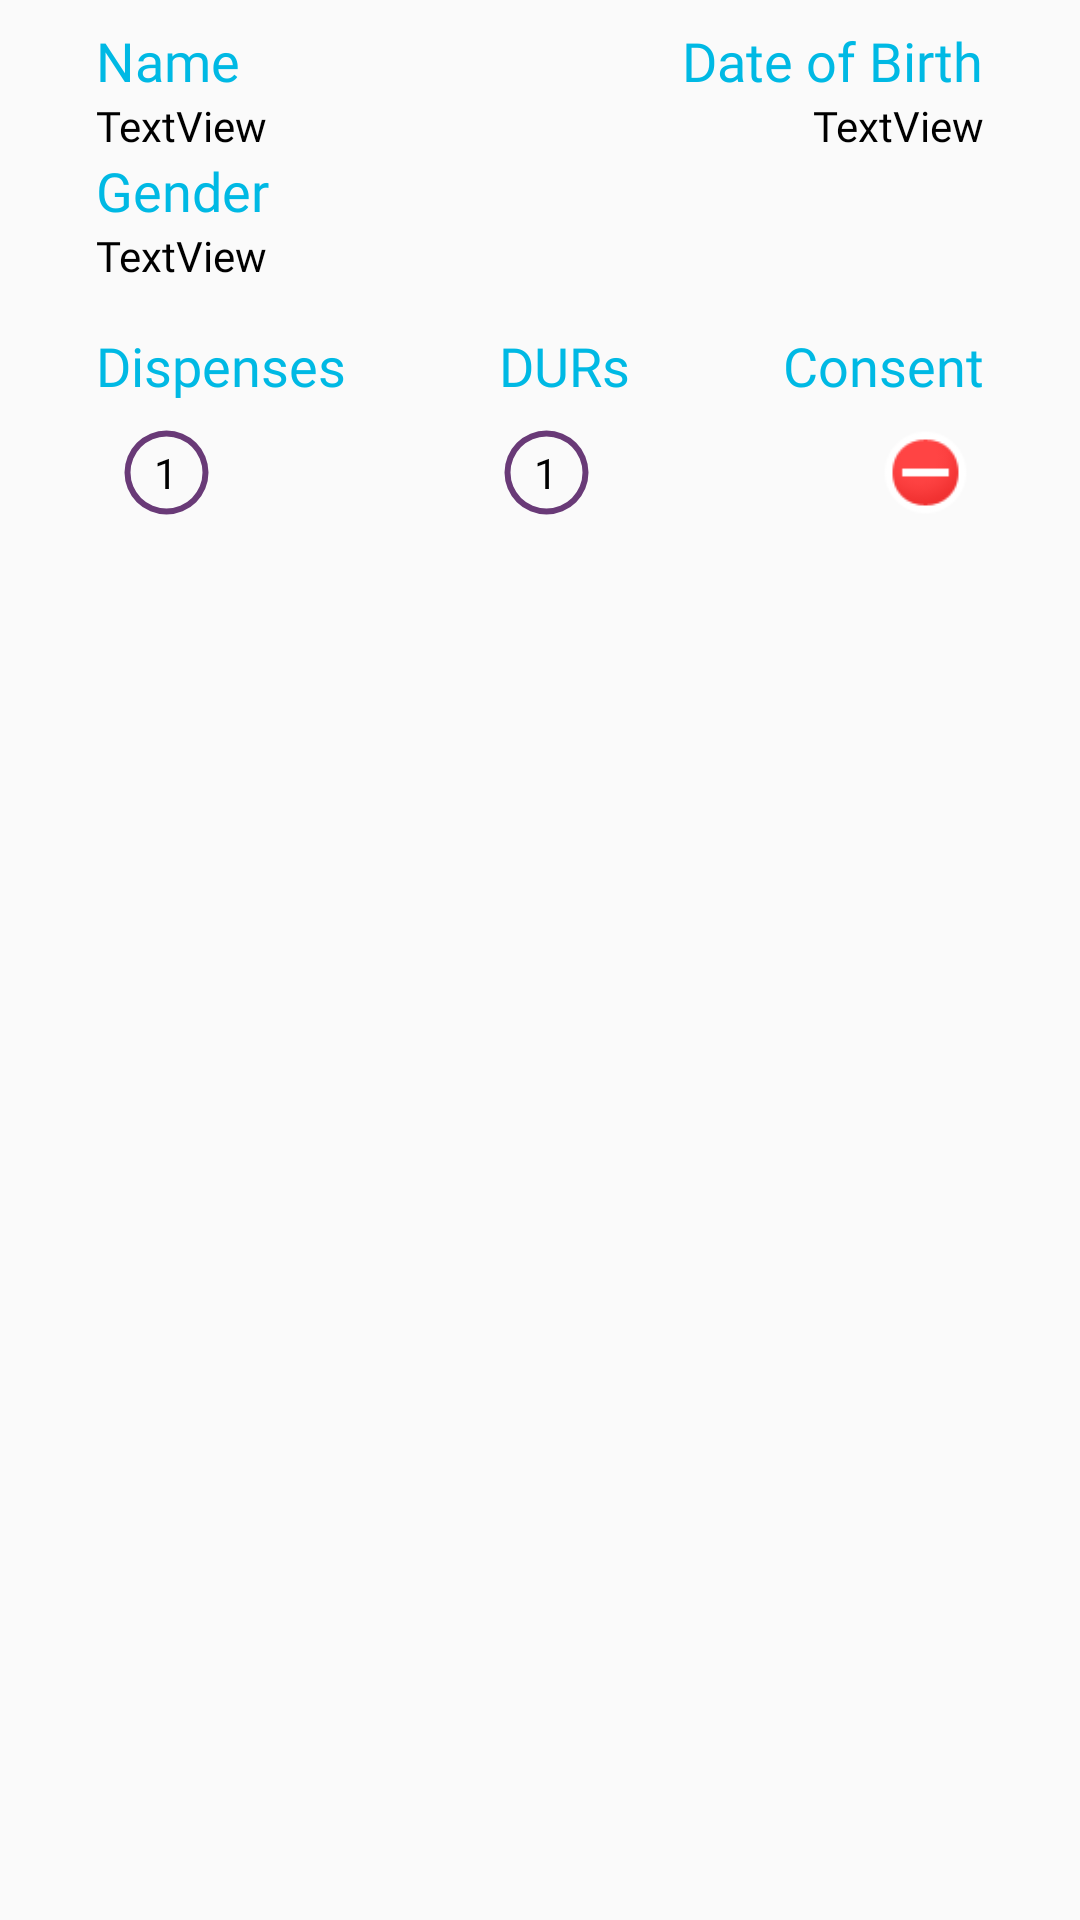

Where to tap for icons on this 1080*1920 app screen, as [x,y]:
presence busy: [925,472]
